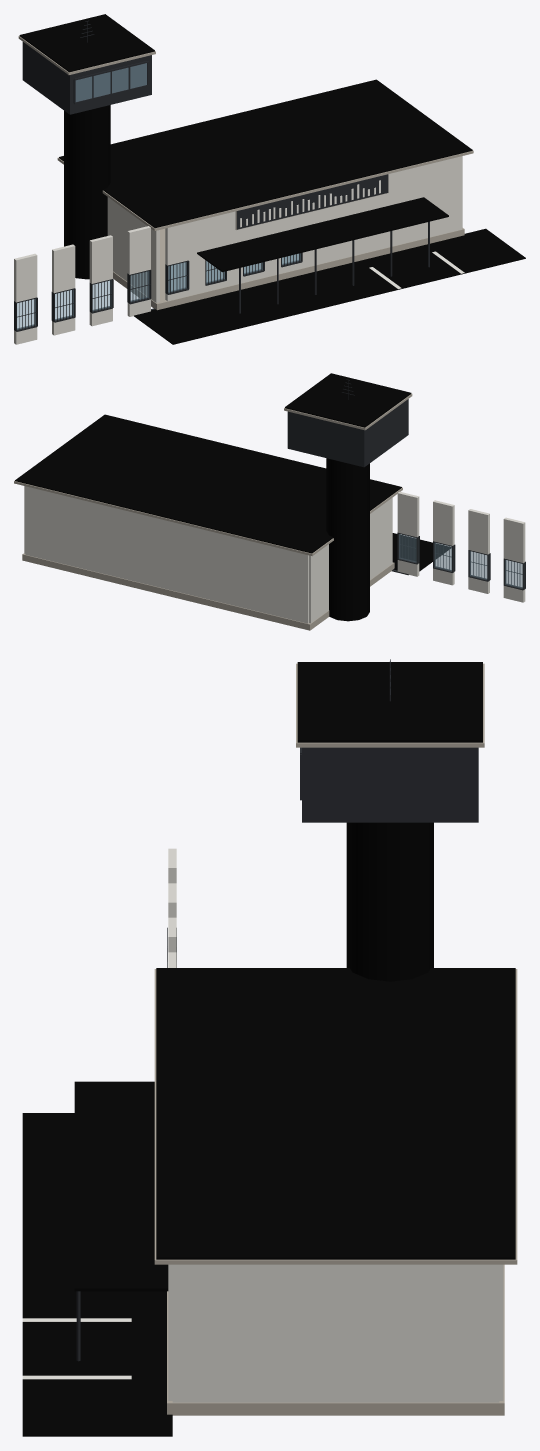
Rendered from airport.glb.
3 views of the same model, one above another, from view 1: azimuth 30°, elevation 25°; view 2: azimuth 150°, elevation 25°; view 3: azimuth 270°, elevation 25° (orthographic). The views are drawn at different scales.
Visible parts, largest first — view 1: object 167, slab, object 20, tower, object 172, cab, object 217, plinth, object 179, left, glass_sheet (×2), object 11 (+14 smaller); view 2: object 167, back, tower, cab, object 217, left, plinth, slab, object 168, object 8, object 2, object 6 (+5 smaller); view 3: object 167, right, slab, object 172, object 217, tower, cab, plinth, object 171, object 221, object 168, object 169.
Boxes of the visible parts, x1,y1,x2,y2 form: object 167: [59, 79, 472, 228]; slab: [134, 228, 525, 344]; object 20: [302, 156, 461, 268]; tower: [64, 105, 110, 279]; object 172: [197, 197, 448, 272]; cab: [22, 42, 151, 114]; object 217: [19, 14, 154, 72]; plinth: [113, 228, 464, 310]; object 179: [236, 174, 388, 229]; left: [107, 197, 159, 302]; glass_sheet (×2): [75, 63, 298, 290]; object 11: [188, 219, 205, 295]; object 167: [15, 414, 401, 553]; back: [25, 486, 308, 623]; tower: [326, 458, 369, 621]; cab: [287, 399, 408, 467]; object 217: [285, 373, 411, 427]; left: [309, 498, 392, 623]; plinth: [22, 553, 394, 630]; slab: [392, 533, 451, 571]; object 168: [14, 481, 312, 555]; object 8: [397, 491, 419, 537]; object 2: [503, 517, 525, 563]; object 6: [433, 500, 454, 545]; object 167: [156, 968, 515, 1259]; right: [172, 1264, 499, 1402]; slab: [22, 1113, 172, 1436]; object 172: [74, 1081, 168, 1291]; object 217: [297, 662, 482, 742]; tower: [346, 822, 433, 981]; cab: [302, 747, 478, 822]; plinth: [167, 1264, 504, 1415]; object 171: [155, 1259, 516, 1264]; object 221: [296, 742, 484, 747]; object 168: [515, 969, 517, 1264]; object 169: [154, 969, 156, 1264].
Size of what is drawn, in the model's own units: 37.36 by 18.88 by 18.16.
